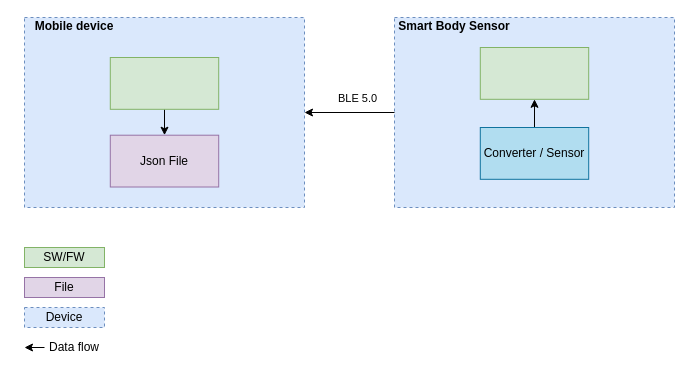
Some shapes in this 692 by 375 pixel diagram are drawn without their labels. The shapes that lost their labels are listed below. From the top down, each one's centre as x and y in pixels, then its label:
At [164,82]: "SmartBodySensor App".
At [534,72]: "SmartBodySensor Firmware".
